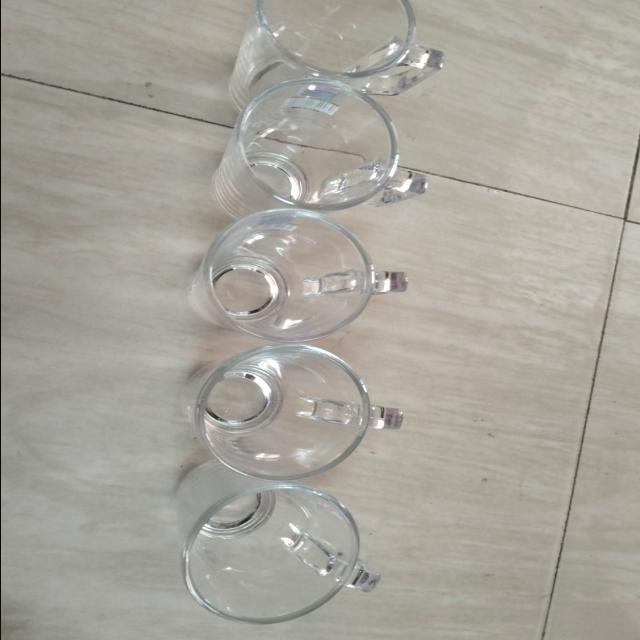glass-VX4N: (186, 70, 427, 222), (170, 456, 382, 626), (166, 346, 402, 480), (169, 208, 403, 342), (217, 0, 439, 116)
